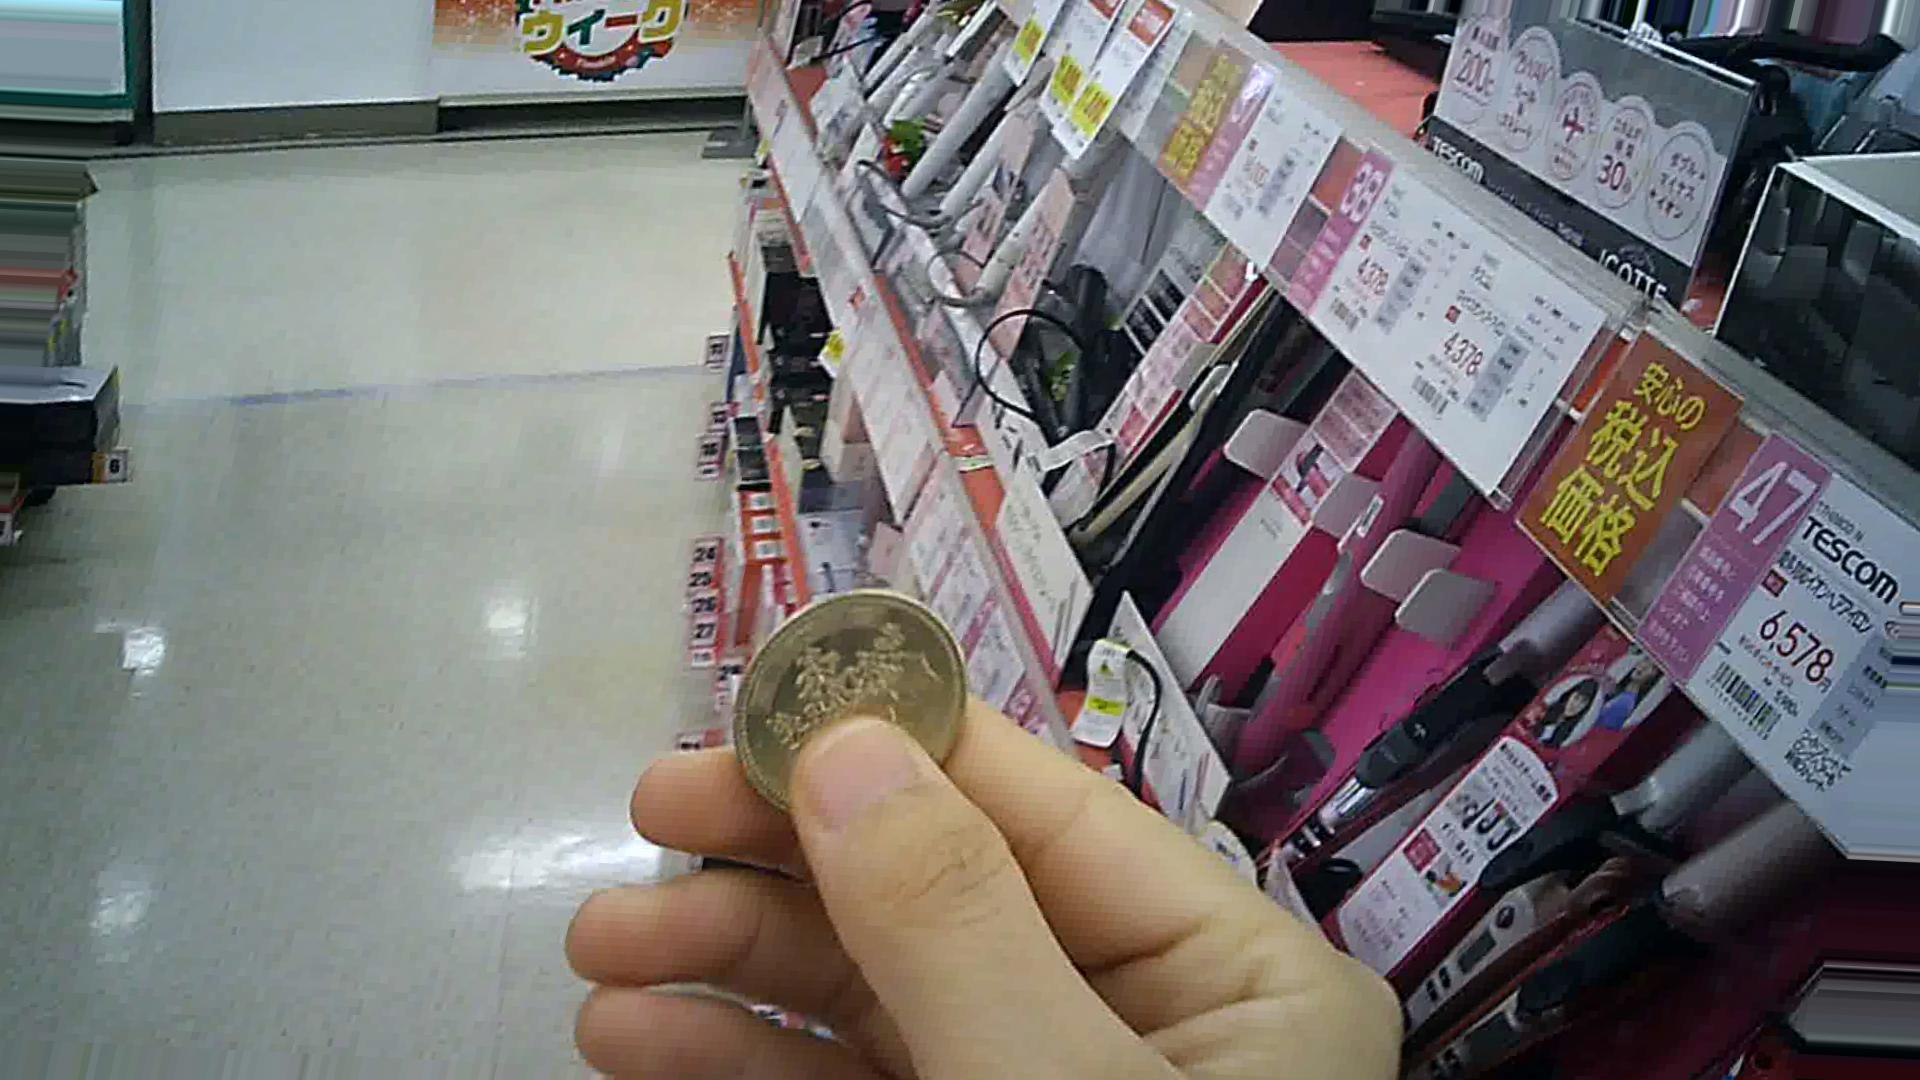500 Yen: (715, 574, 969, 827)
